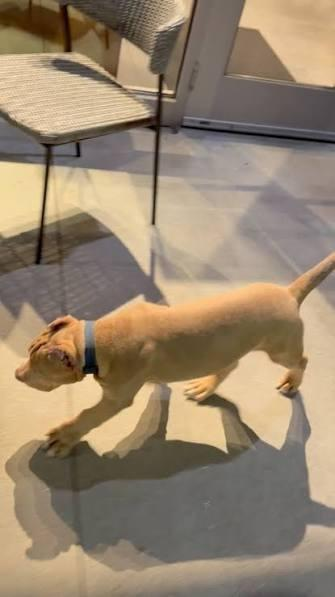puppy-dog: (14, 249, 335, 456)
